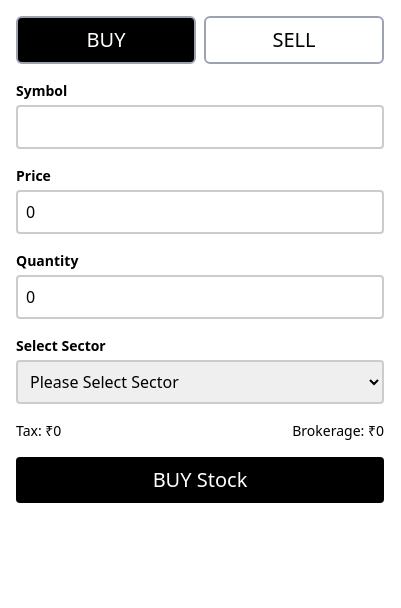
it: BuySellForm › validates form fields and shows error messages
This screenshot has width=401, height=608.
Click the button "BUY Stock" at (200, 480), box [16,457,384,503]
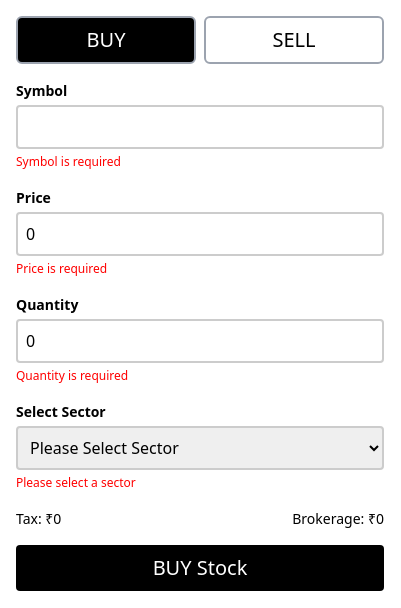
Now the text "Symbol is required" is shown, box [16,153,121,170]
Now the text "Price is required" is shown, box [16,260,107,277]
Now the text "Quantity is required" is shown, box [16,367,128,384]
